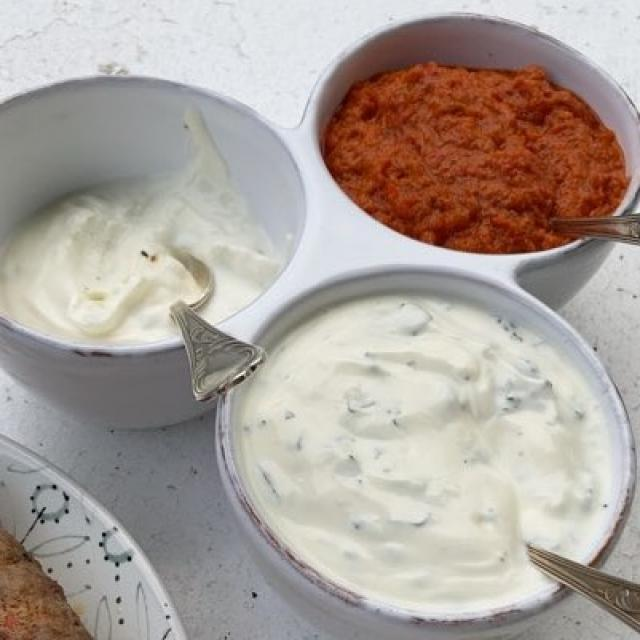tzatziki: (258, 310, 591, 597)
yogurt: (18, 179, 265, 344)
